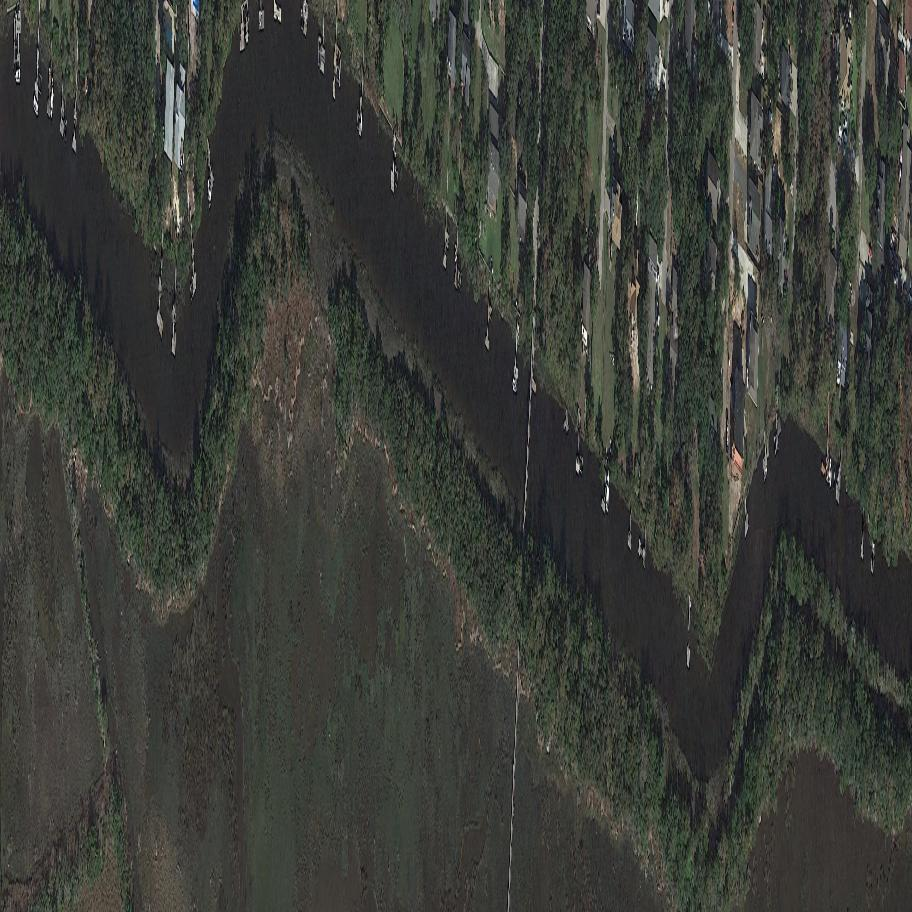ship: (604, 466, 610, 515), (50, 72, 54, 120), (206, 176, 212, 208), (33, 92, 39, 118), (828, 457, 832, 488), (15, 68, 21, 85), (512, 378, 517, 396)
small-vehicle: (653, 267, 662, 284), (737, 34, 741, 60), (731, 1, 734, 28), (843, 130, 848, 146), (768, 109, 773, 124), (843, 114, 847, 131)
